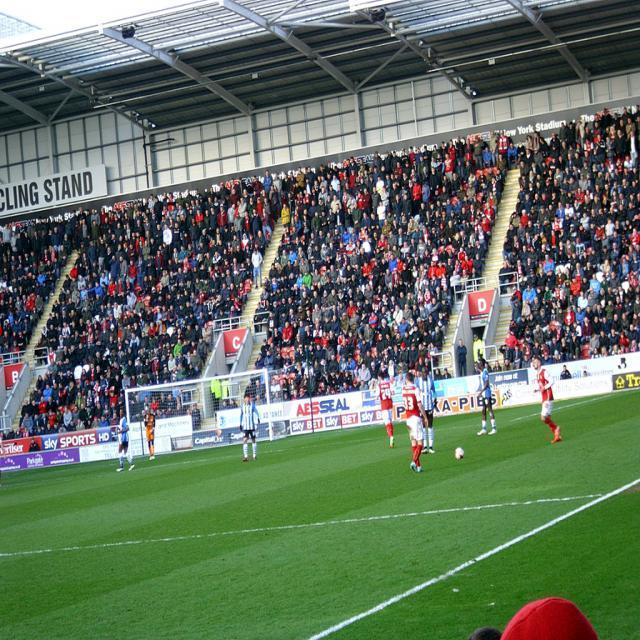football: (451, 444, 473, 468)
